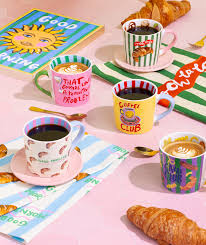mug: (5, 111, 94, 189), (102, 19, 180, 101), (103, 71, 179, 145), (44, 51, 107, 126)
